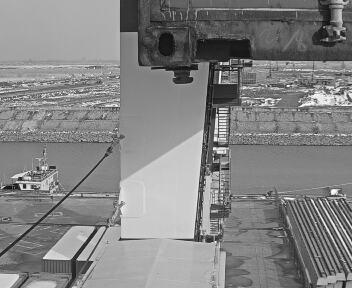twist_lock_1: (124, 188, 219, 248)
